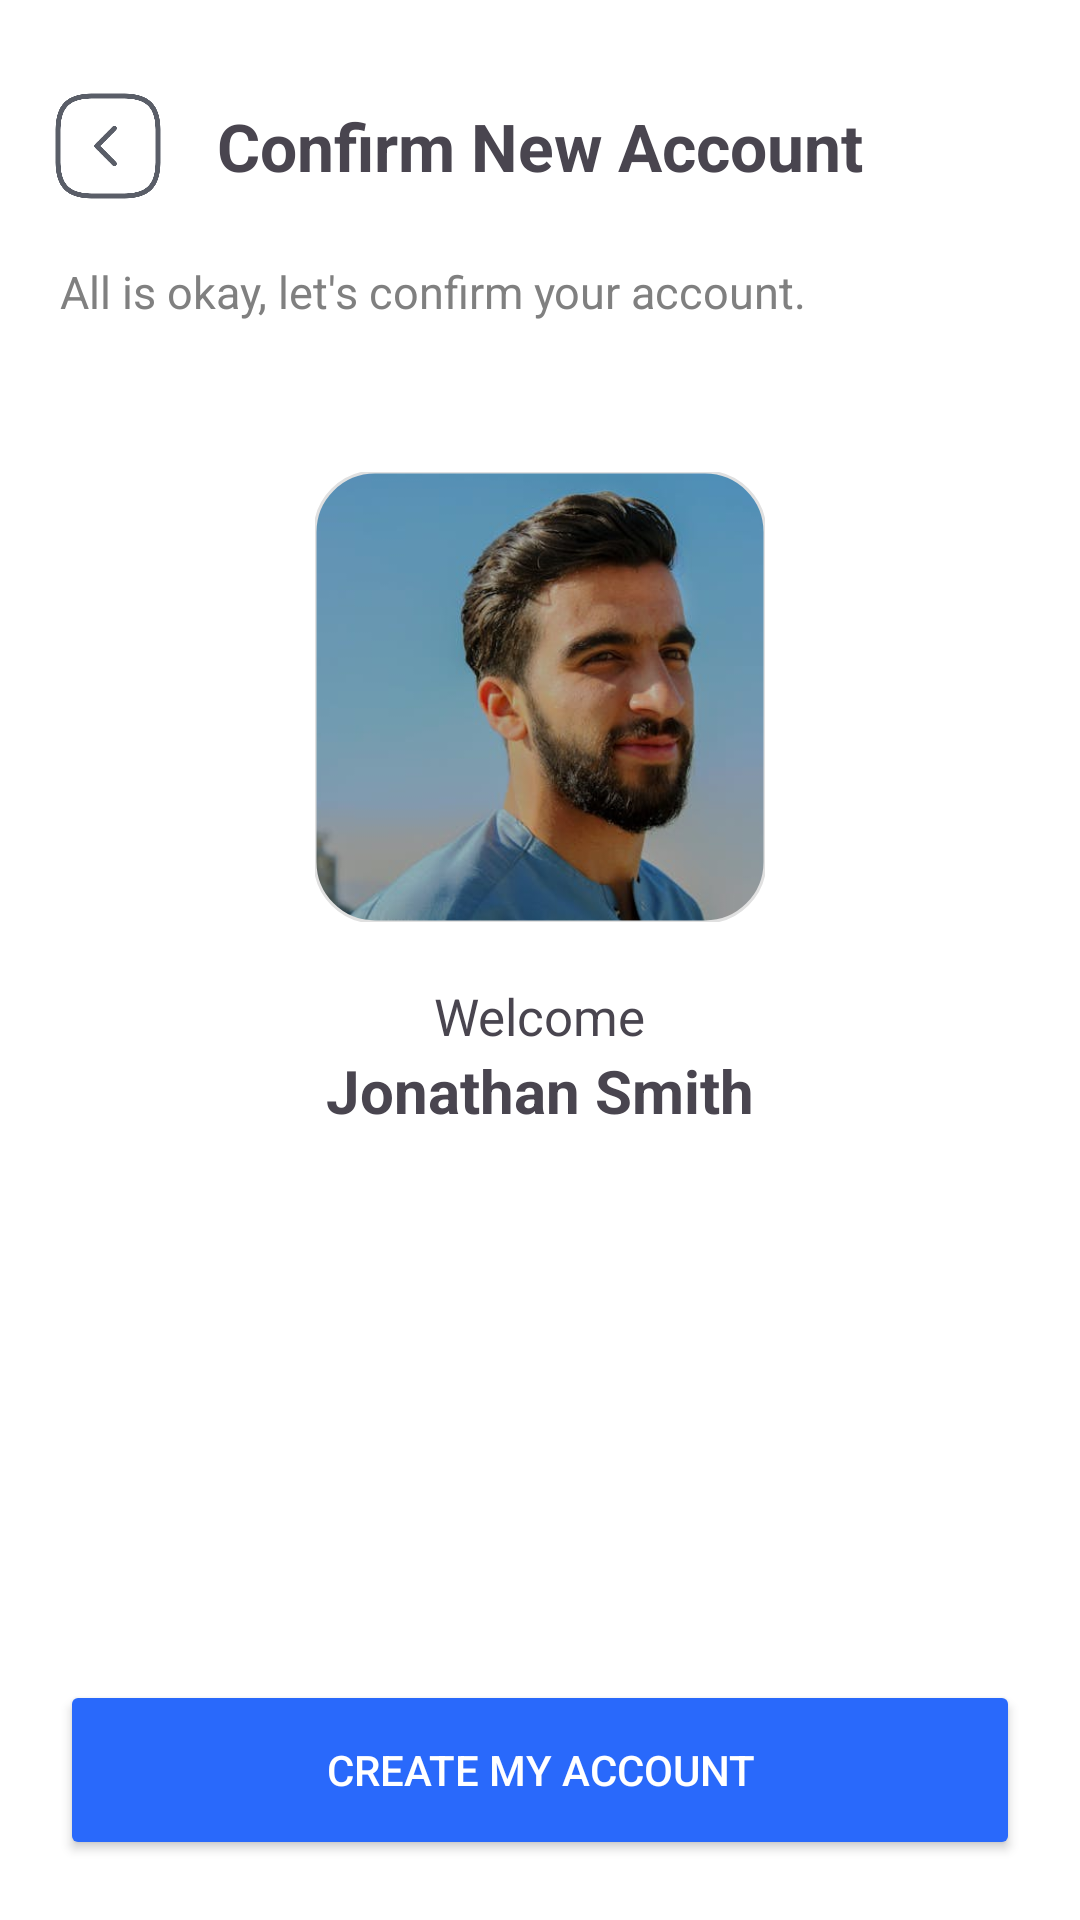

Point at icon controls on the screen. Image size 1080w x 1920h, points as (x,y).
arrow back: (108,146)
